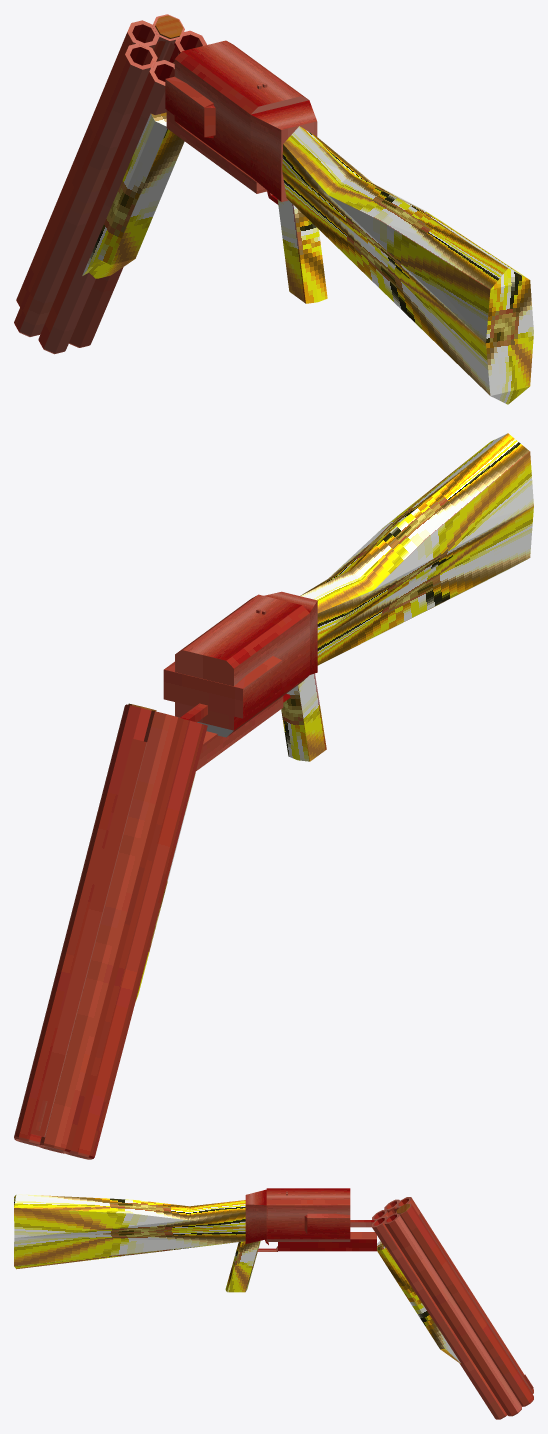
File: six_barrels_shotgun_reloading_1.obj
3 renders of one model, top to bottom at view 1: azimuth 30°, elevation 25°; view 2: azimuth 150°, elevation 25°; view 3: azimuth 270°, elevation 25°, orthographic. The views are drawn at different scales.
Visible parts, largest first — view 1: Torus.009_Torus.008, Torus.000, Torus.001; view 2: Torus.009_Torus.008, Torus.000; view 3: Torus.009_Torus.008, Torus.000.
Part boxes in pixels (x1,y1,x2,y2): Torus.009_Torus.008: (165,40,533,404); Torus.000: (14,14,206,354); Torus.001: (155,15,183,38); Torus.009_Torus.008: (163,433,533,770); Torus.000: (14,704,207,1159); Torus.009_Torus.008: (14,1188,376,1292); Torus.000: (372,1197,533,1419).
Size of the model in its own units: 0.6336 by 3.09 by 6.56.
